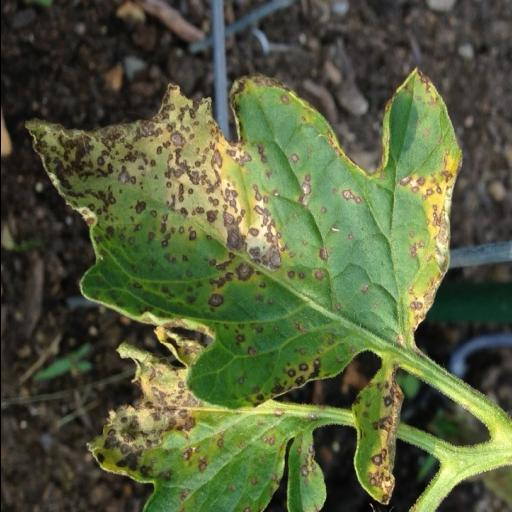Septoria: (10, 58, 472, 506), (76, 320, 332, 512)
